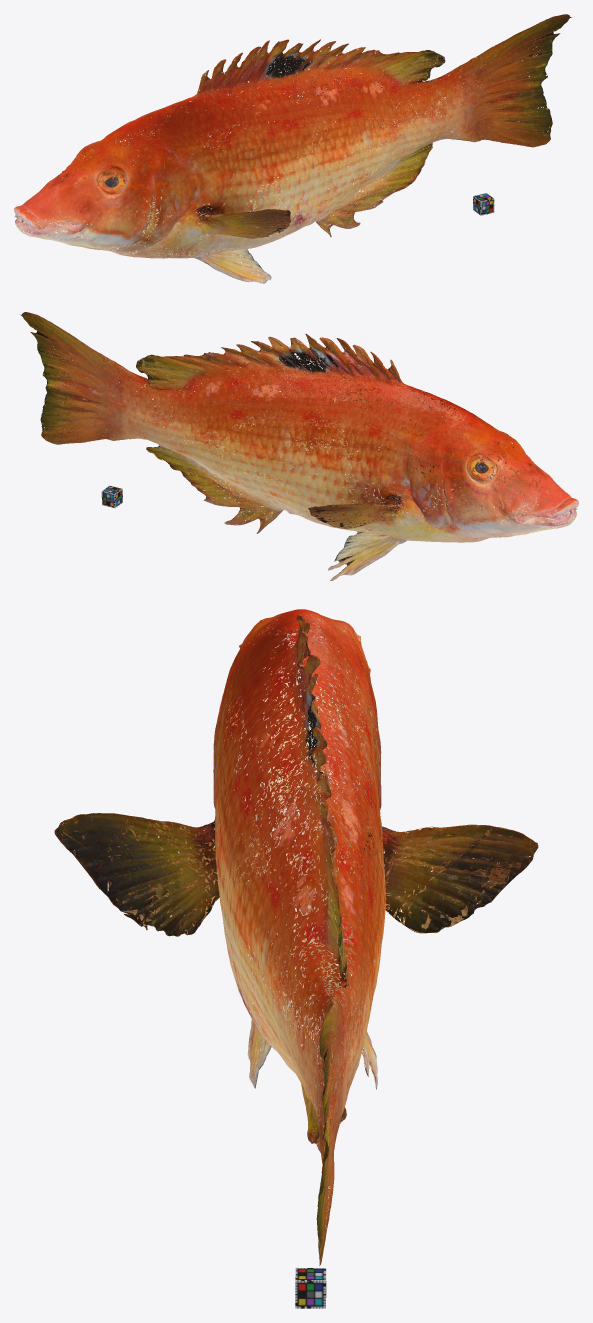
Rendered from scan_wrasse_snooty.glb.
The picture shows the model from 3 angles, top to bottom: view 1: azimuth 30°, elevation 25°; view 2: azimuth 150°, elevation 25°; view 3: azimuth 270°, elevation 25°; orthographic projection. The views are drawn at different scales.
Visible parts, largest first — view 1: Object_12, Object_6, Object_18, Object_4; view 2: Object_18, Object_6, Object_12, Object_4; view 3: Object_18, Object_12, Object_6, Object_4.
Boxes of the visible parts, left/top/right/bottom form: Object_12: left=14, top=14, right=571, bottom=283; Object_6: left=14, top=28, right=552, bottom=283; Object_18: left=14, top=16, right=569, bottom=283; Object_4: left=473, top=193, right=494, bottom=215; Object_18: left=23, top=314, right=578, bottom=572; Object_6: left=23, top=313, right=578, bottom=580; Object_12: left=21, top=312, right=577, bottom=578; Object_4: left=101, top=485, right=122, bottom=508; Object_18: left=54, top=613, right=537, bottom=1264; Object_12: left=58, top=612, right=533, bottom=1263; Object_6: left=54, top=609, right=538, bottom=1265; Object_4: left=295, top=1267, right=326, bottom=1308.
Bounding box in the file's own units: 18.5 × 7.18 × 6.93.
Materials: 4 (4 with a texture image).
